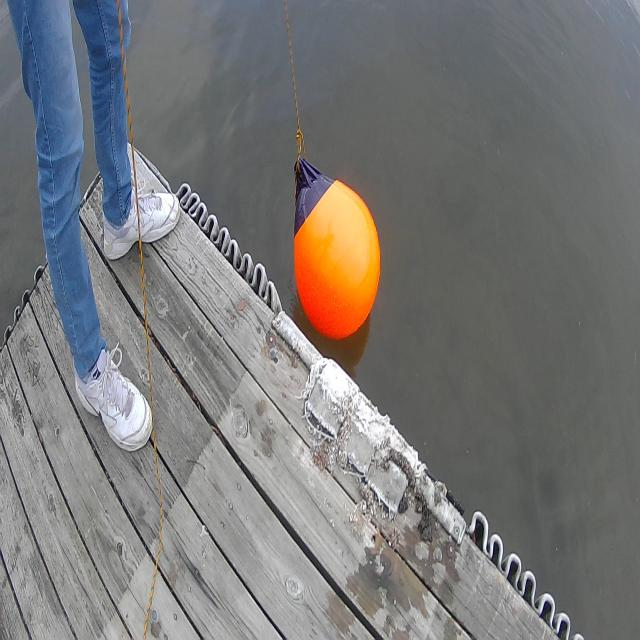Buoy: (280, 147, 393, 356)
